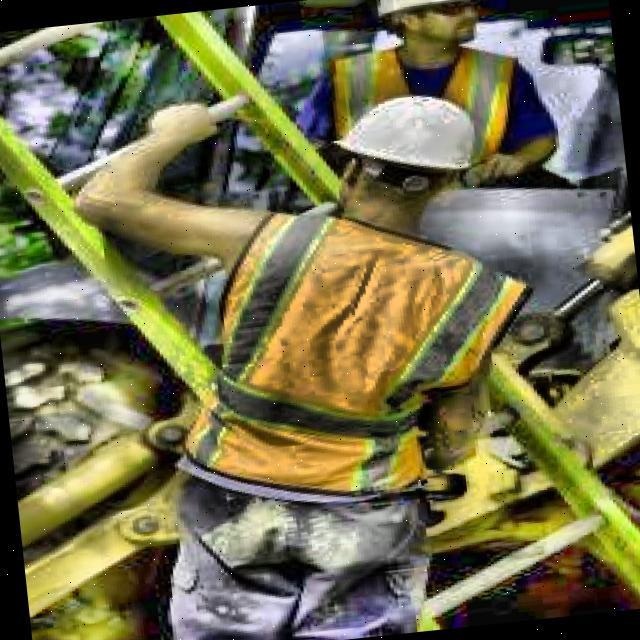helmet: (302, 67, 518, 232), (379, 0, 490, 56)
